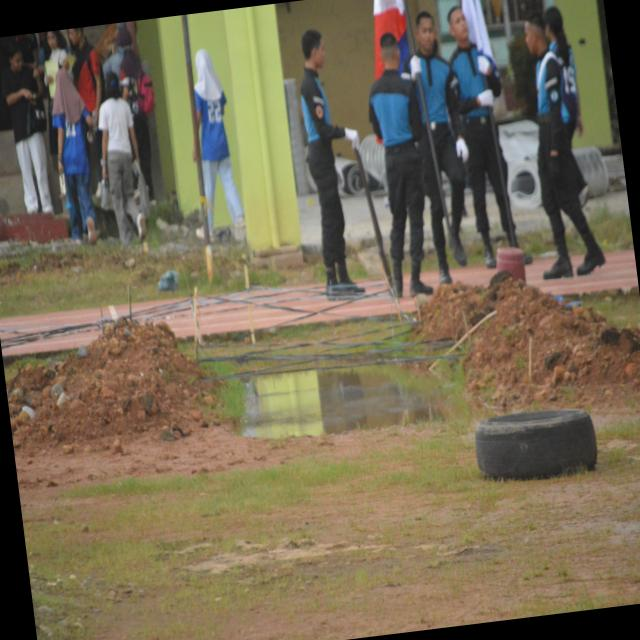person: (524, 16, 603, 279), (447, 7, 516, 268), (368, 33, 432, 298), (300, 30, 363, 298), (402, 12, 467, 266), (194, 50, 244, 240), (1, 46, 52, 213), (98, 73, 146, 246), (52, 68, 96, 245), (114, 28, 153, 199), (542, 7, 582, 147), (67, 27, 102, 161)
